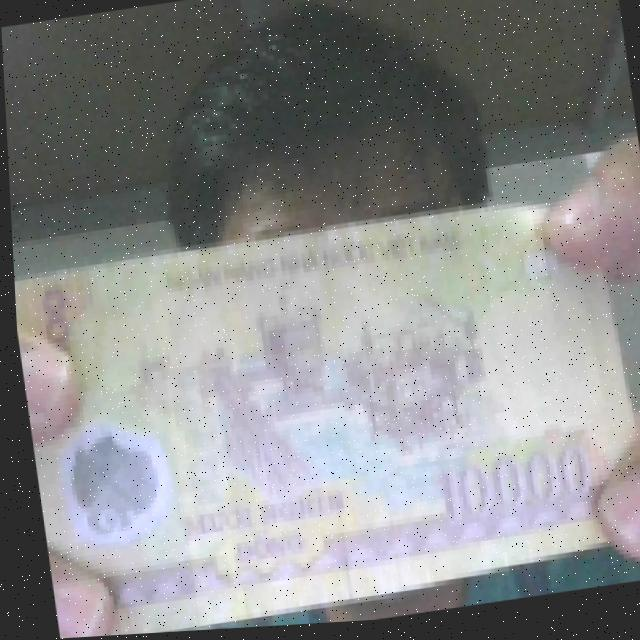10 000 VND: (9, 185, 640, 640)
